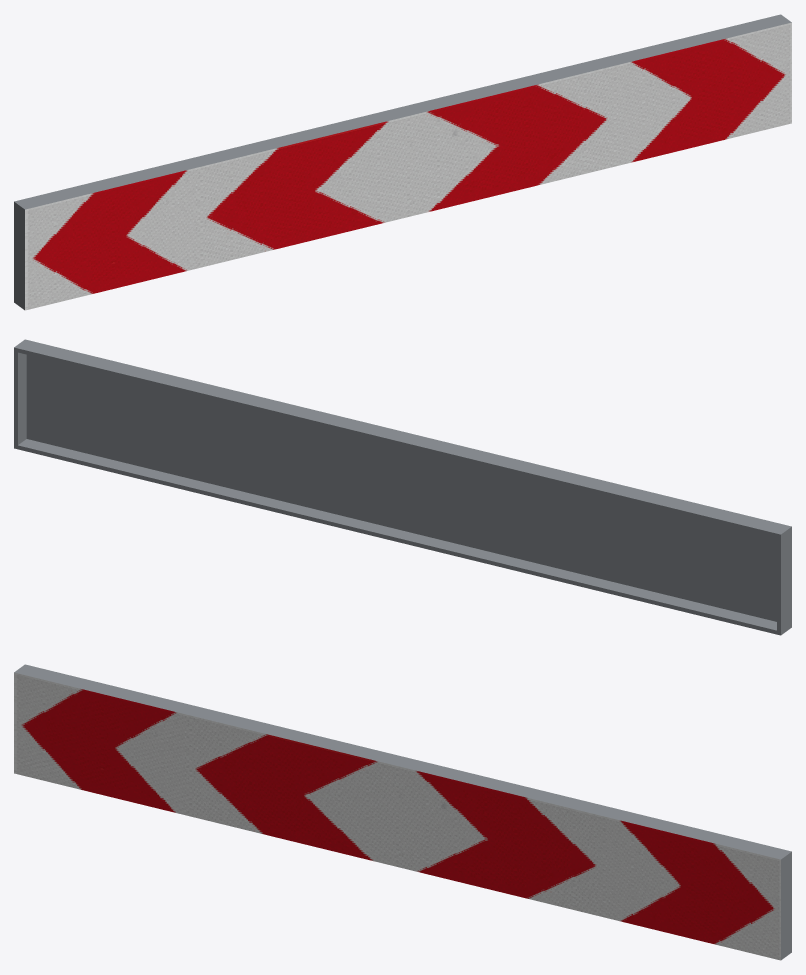
The picture shows the model from 3 angles, top to bottom: view 1: azimuth 30°, elevation 25°; view 2: azimuth 150°, elevation 25°; view 3: azimuth 330°, elevation 25°; orthographic projection.
Parts seen in each view (by area): view 1: cat_b7937b41bff2528d; view 2: cat_b7937b41bff2528d; view 3: cat_b7937b41bff2528d.
Boxes of the visible parts, x1,y1,x2,y2 form: cat_b7937b41bff2528d: (14,14,791,310); cat_b7937b41bff2528d: (14,339,791,635); cat_b7937b41bff2528d: (14,664,791,960).
Size of the model in its own units: 0.6 by 0.015 by 0.0755.
2 materials, 1 textured.
